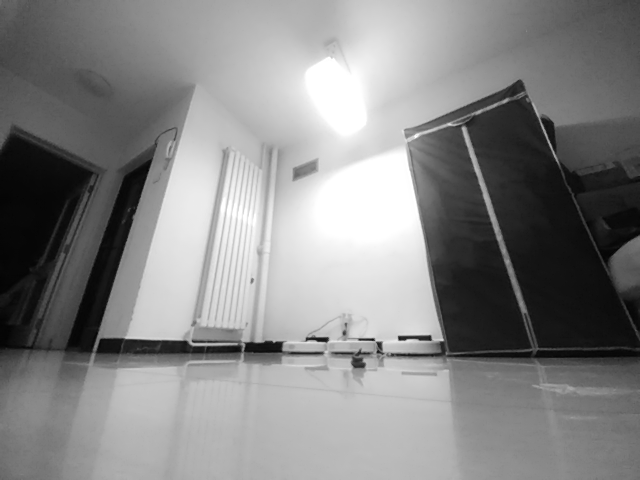pet feces: (351, 346, 367, 370)
